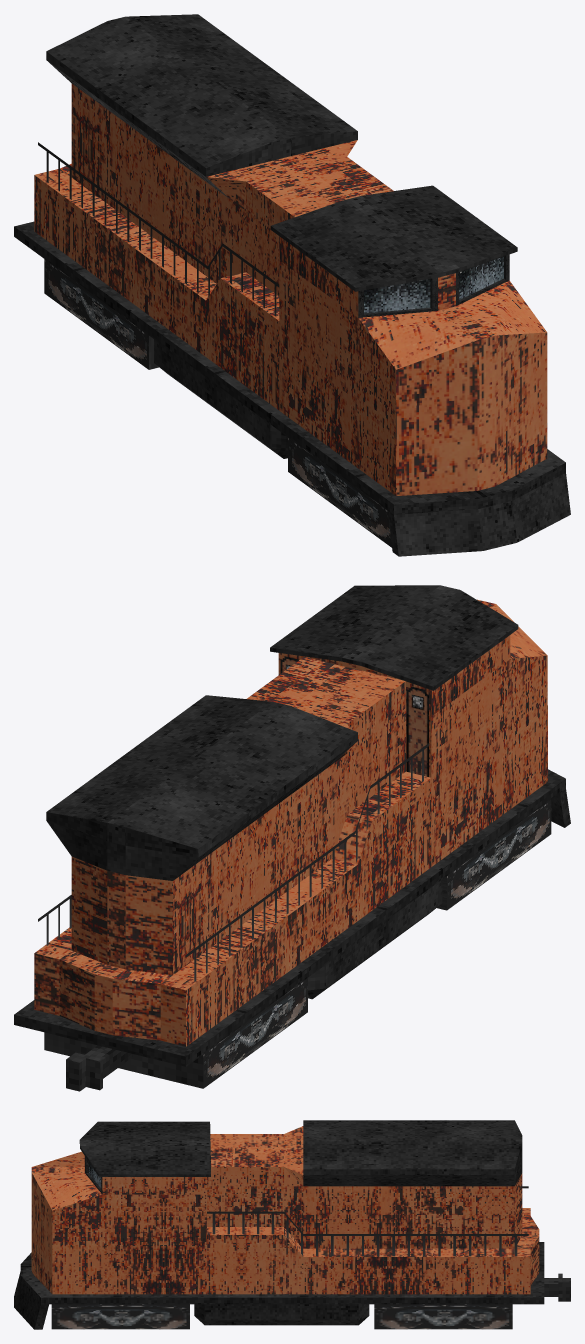
The model's file is pixel_train_lowpoly.fbx.
The picture shows the model from 3 angles, top to bottom: view 1: azimuth 30°, elevation 25°; view 2: azimuth 150°, elevation 25°; view 3: azimuth 270°, elevation 25°; orthographic projection. The views are drawn at different scales.
Visible parts, largest first — view 1: psx_train_body, psx_train_roof, psx_train_body2, psx_train_underbody, psx_train_wheels, psx_train_underbody2, psx_train_window, psx_train_handrail, psx_train_windowframe; view 2: psx_train_body, psx_train_roof, psx_train_body2, psx_train_underbody, psx_train_wheels, psx_train_underbody2, psx_train_handrail, psx_train_attach; view 3: psx_train_body, psx_train_body2, psx_train_roof, psx_train_underbody, psx_train_wheels, psx_train_underbody2, psx_train_handrail, psx_train_attach.
Boxes of the visible parts, bbox=[...] form: psx_train_body: bbox=[34, 163, 547, 496]; psx_train_roof: bbox=[46, 14, 517, 291]; psx_train_body2: bbox=[71, 84, 393, 295]; psx_train_underbody: bbox=[14, 221, 570, 556]; psx_train_wheels: bbox=[44, 259, 391, 547]; psx_train_underbody2: bbox=[154, 339, 287, 458]; psx_train_window: bbox=[364, 256, 503, 313]; psx_train_handrail: bbox=[38, 142, 279, 316]; psx_train_windowframe: bbox=[358, 254, 509, 317]; psx_train_body: bbox=[34, 599, 547, 1046]; psx_train_roof: bbox=[46, 585, 518, 880]; psx_train_body2: bbox=[71, 657, 405, 975]; psx_train_underbody: bbox=[14, 769, 570, 1066]; psx_train_wheels: bbox=[44, 800, 551, 1088]; psx_train_underbody2: bbox=[308, 880, 442, 999]; psx_train_handrail: bbox=[38, 743, 429, 981]; psx_train_attach: bbox=[66, 1045, 132, 1091]; psx_train_body: bbox=[31, 1151, 539, 1294]; psx_train_body2: bbox=[207, 1126, 522, 1248]; psx_train_roof: bbox=[79, 1120, 522, 1186]; psx_train_underbody: bbox=[14, 1242, 544, 1329]; psx_train_wheels: bbox=[51, 1304, 512, 1329]; psx_train_underbody2: bbox=[194, 1304, 369, 1325]; psx_train_handrail: bbox=[207, 1186, 528, 1256]; psx_train_attach: bbox=[544, 1273, 570, 1301].
Size of the model in its own units: 340 by 472 by 1439.
